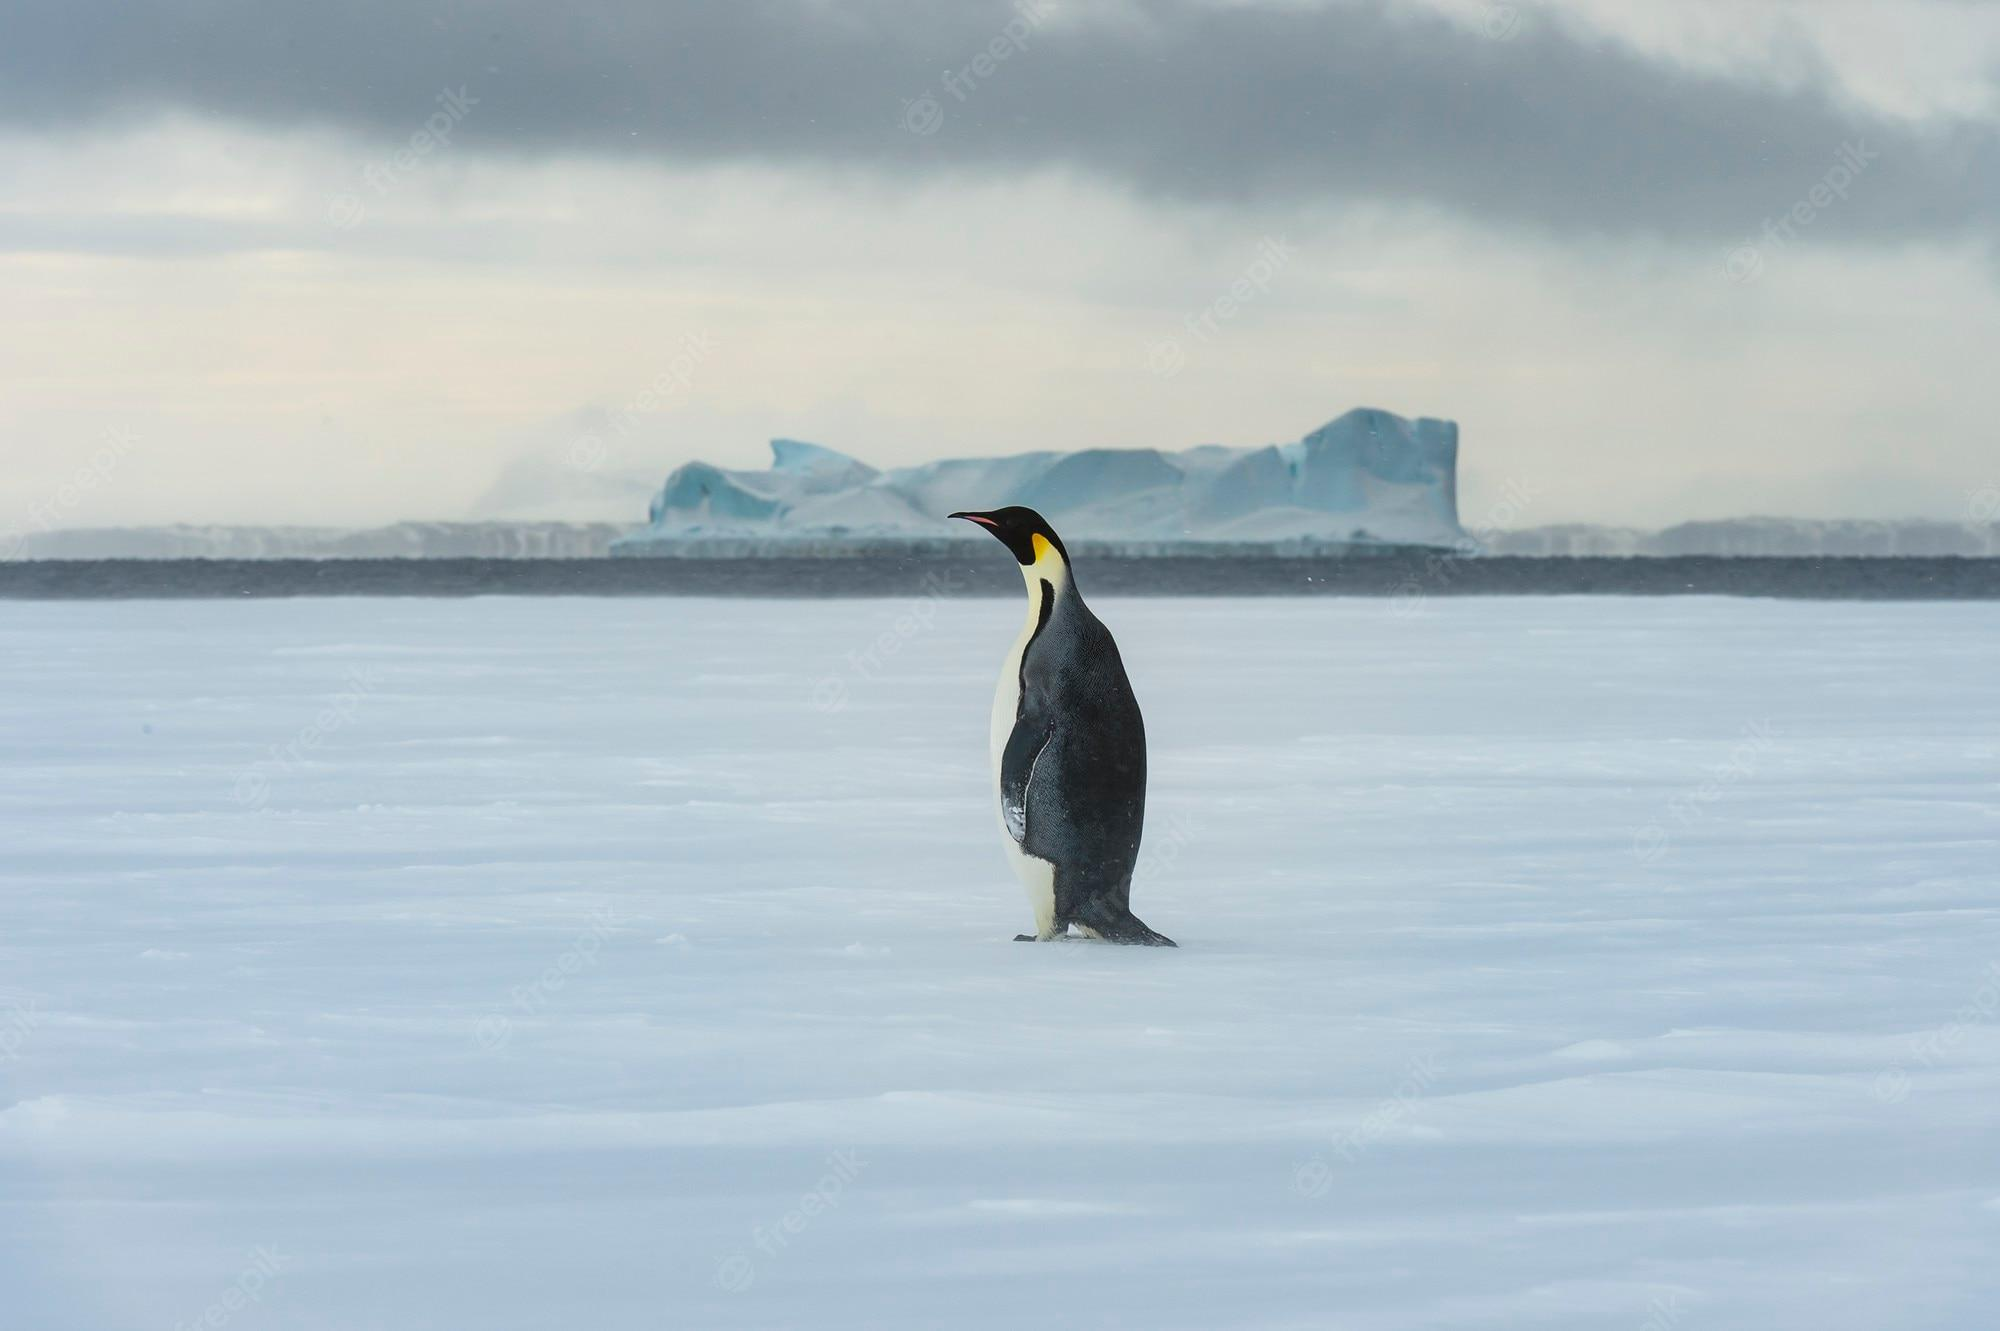emporer: (894, 469, 1247, 1022)
